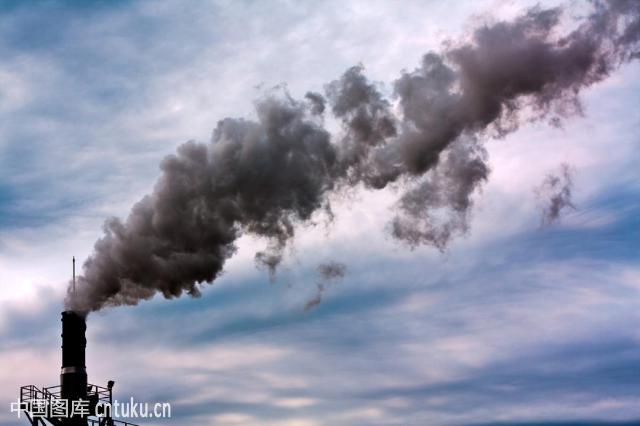smoke: (258, 114, 400, 168), (173, 156, 321, 202), (103, 225, 211, 279), (405, 86, 473, 171), (464, 45, 564, 96), (149, 194, 263, 230), (334, 82, 412, 131), (85, 259, 182, 291), (62, 277, 106, 310)
